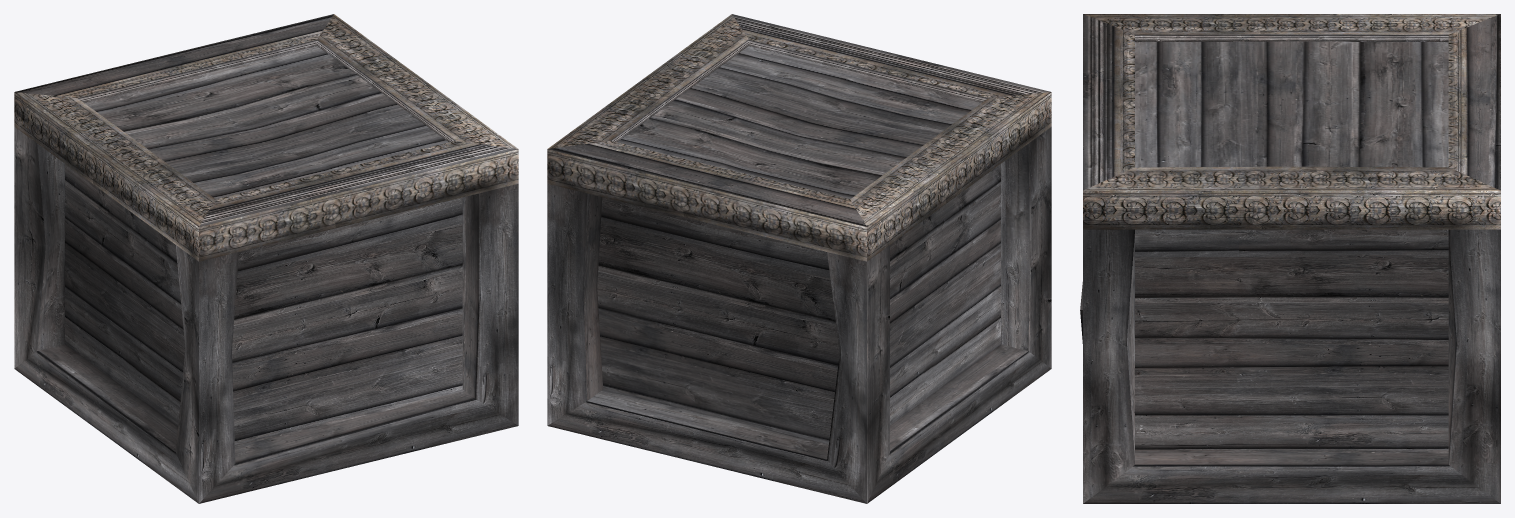
The model's file is tavern_box.fbx.
3 views of the same model, side by side, from view 1: azimuth 30°, elevation 25°; view 2: azimuth 150°, elevation 25°; view 3: azimuth 270°, elevation 25° (orthographic). The views are drawn at different scales.
Visible parts, largest first — view 1: Default_Layer; view 2: Default_Layer; view 3: Default_Layer.
Part boxes in pixels (x1,y1,x2,y2): Default_Layer: (14, 14, 518, 503); Default_Layer: (547, 14, 1051, 503); Default_Layer: (1080, 14, 1500, 503).
Bounding box in the file's own units: 291 × 242 × 293.
1 material, 1 textured.
